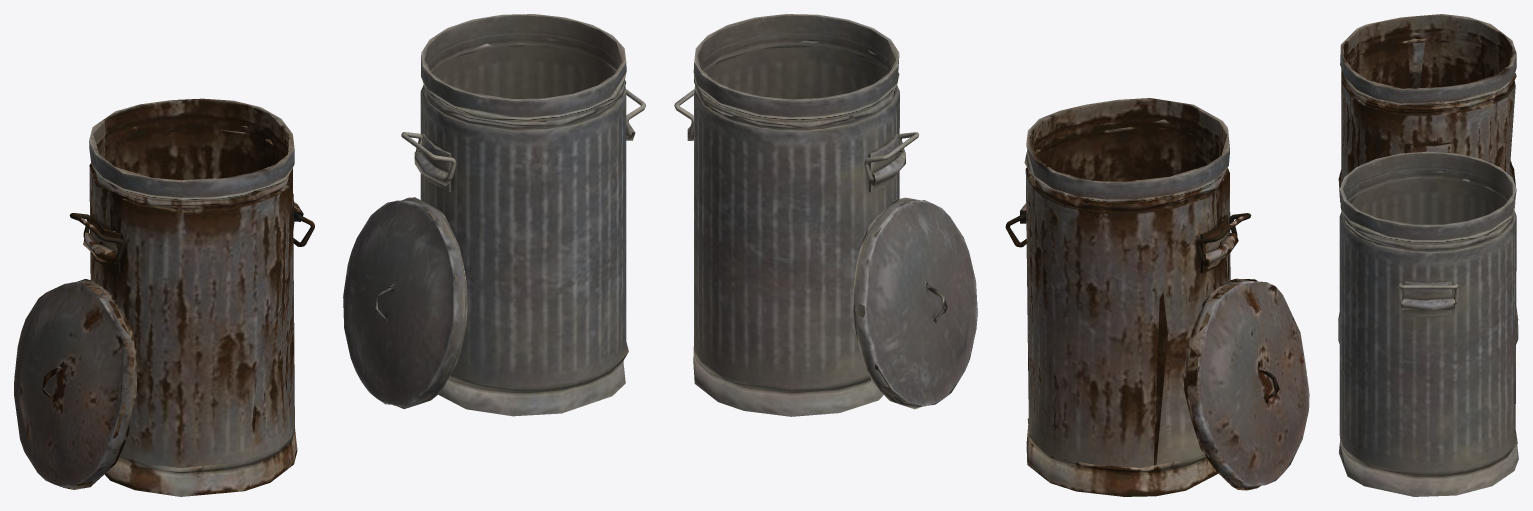
The model's file is metal_trash_can.glb.
3 views of the same model, side by side, from view 1: azimuth 30°, elevation 25°; view 2: azimuth 150°, elevation 25°; view 3: azimuth 270°, elevation 25° (orthographic). The views are drawn at different scales.
Parts seen in each view (by area): view 1: metal_trash_can, metal_trash_can_rust, metal_trash_can_lid, metal_trash_can_rust_lid; view 2: metal_trash_can, metal_trash_can_rust, metal_trash_can_lid, metal_trash_can_rust_lid; view 3: metal_trash_can, metal_trash_can_rust, metal_trash_can_handle_right.
Boxes of the visible parts, x1=… form: metal_trash_can: x1=414, y1=14, x2=635, y2=416; metal_trash_can_rust: x1=83, y1=98, x2=303, y2=496; metal_trash_can_lid: x1=343, y1=197, x2=467, y2=408; metal_trash_can_rust_lid: x1=14, y1=279, x2=136, y2=489; metal_trash_can: x1=687, y1=14, x2=905, y2=416; metal_trash_can_rust: x1=1020, y1=98, x2=1238, y2=496; metal_trash_can_lid: x1=853, y1=197, x2=977, y2=409; metal_trash_can_rust_lid: x1=1183, y1=278, x2=1309, y2=490; metal_trash_can: x1=1339, y1=151, x2=1518, y2=496; metal_trash_can_rust: x1=1338, y1=14, x2=1518, y2=319; metal_trash_can_handle_right: x1=1398, y1=283, x2=1458, y2=304.
Bounding box in the file's own units: 1.78 × 0.9062 × 0.55.
2 materials, 2 textured.
